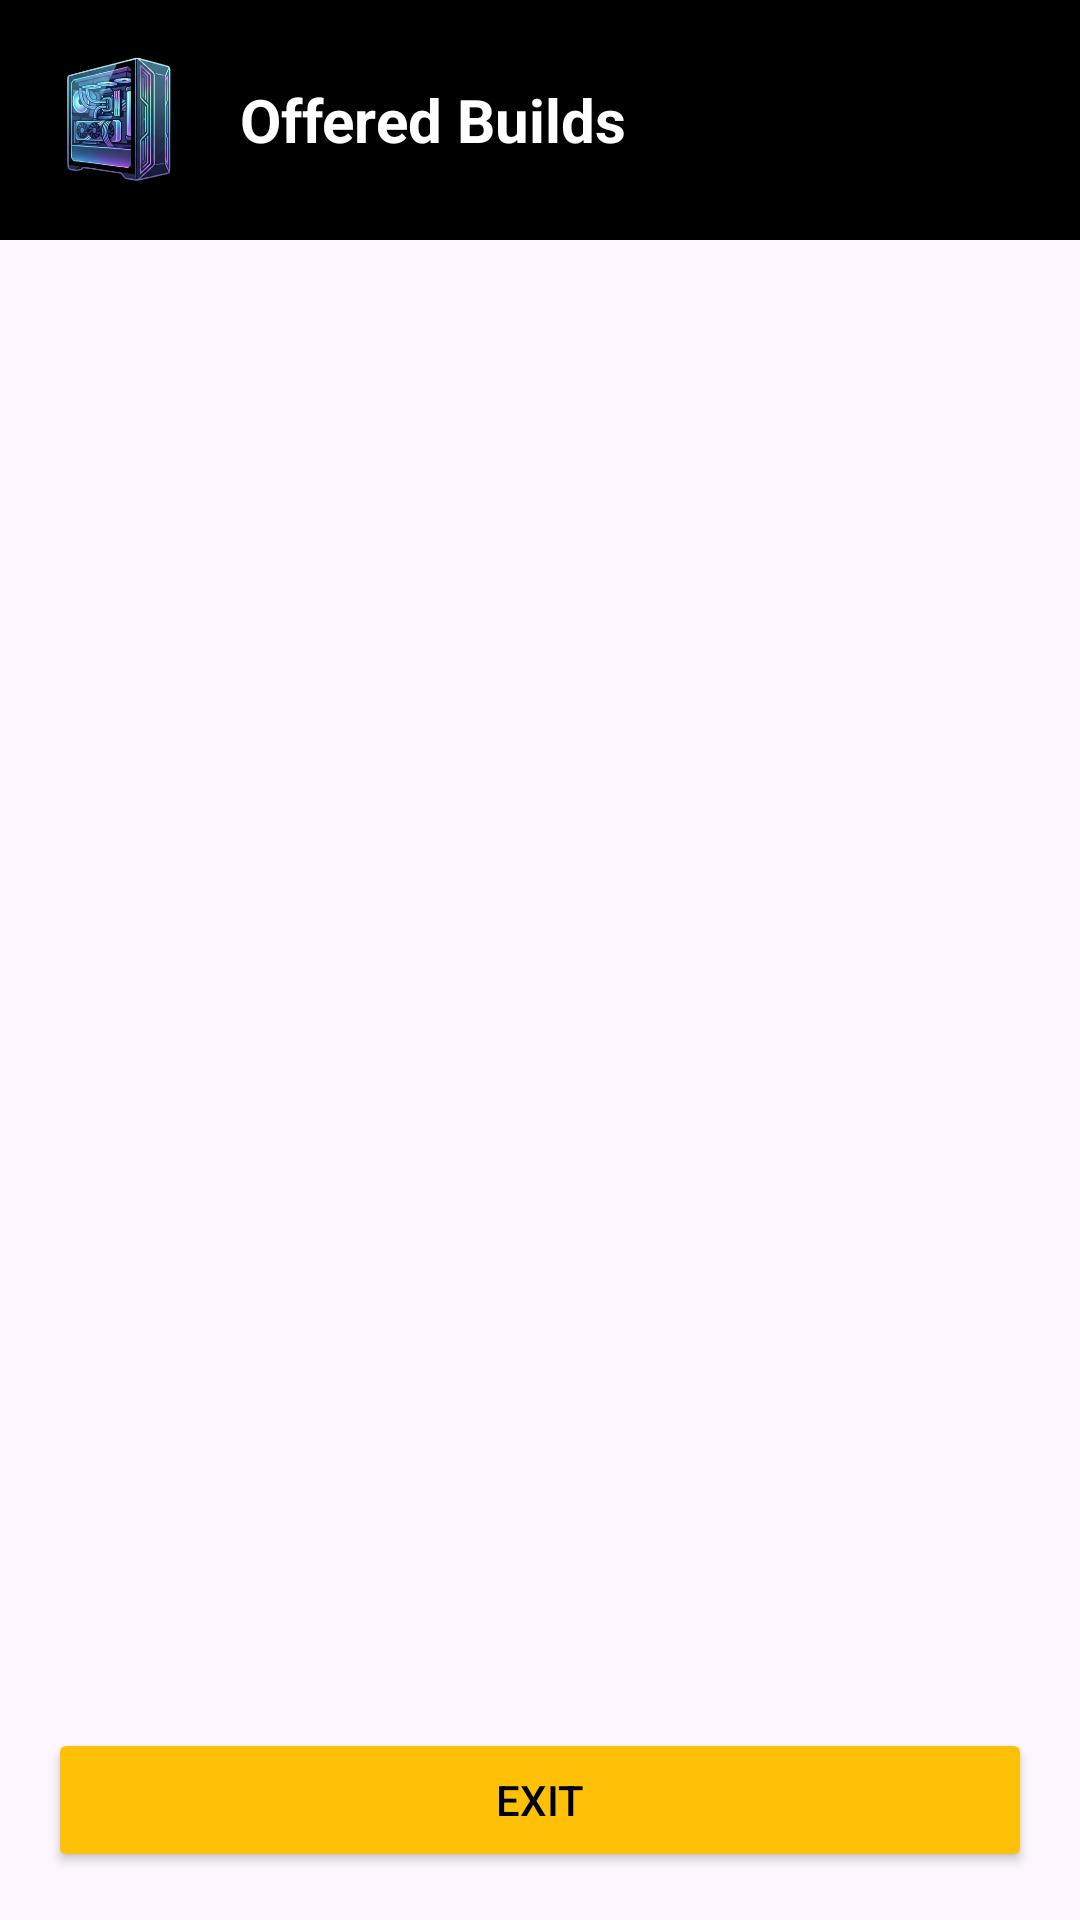

Locate icon controls on the screen. Image size 1080×1920, boxes as (x1, y1, x2, y2).
Header Image: (67, 58, 171, 181)
